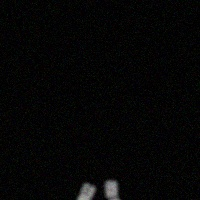chromosome: (103, 180, 130, 200), (71, 184, 94, 200)
